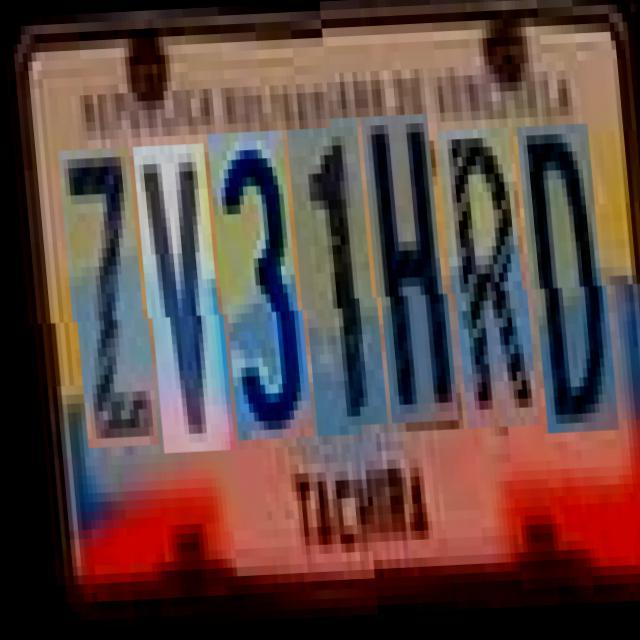1: (288, 130, 381, 439)
3: (209, 133, 305, 443)
D: (519, 139, 611, 448)
H: (364, 128, 451, 436)
R: (440, 142, 530, 442)
V: (134, 146, 226, 454)
Z: (60, 148, 150, 448)
